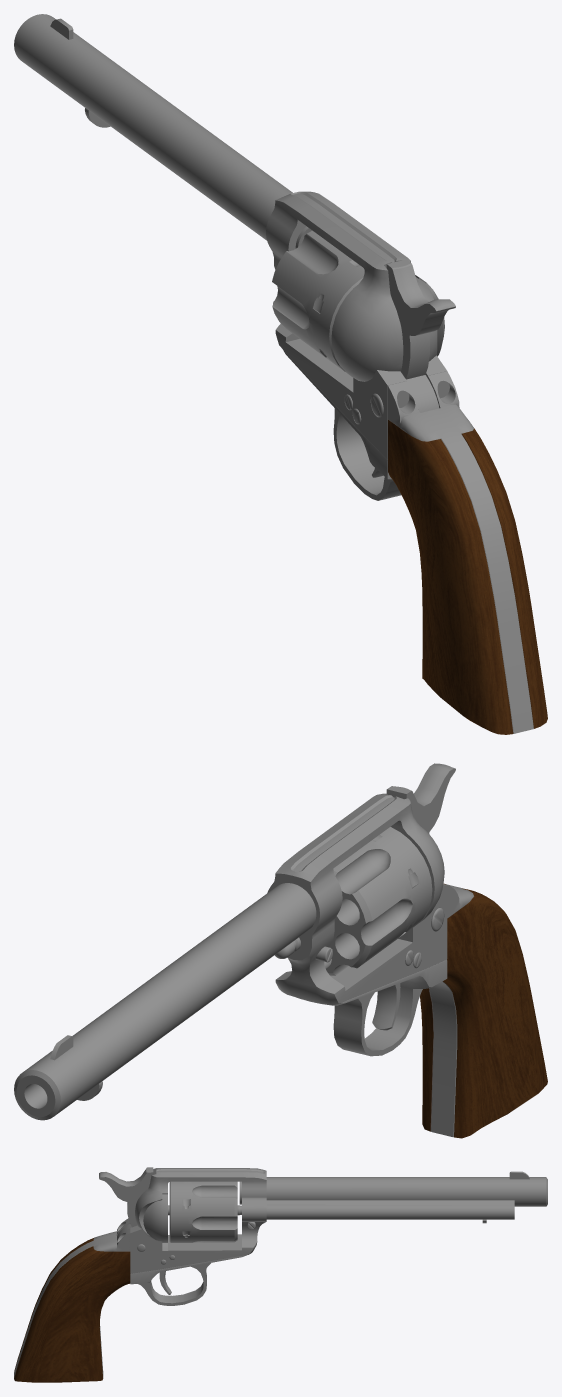
The model's file is peacemaker.fbx.
3 views of the same model, one above another, from view 1: azimuth 30°, elevation 25°; view 2: azimuth 150°, elevation 25°; view 3: azimuth 270°, elevation 25° (orthographic). The views are drawn at different scales.
Visible parts, largest first — view 1: handgrip, barrel, receiver, Cylinder, hammer, trigger; view 2: handgrip, barrel, receiver, Cylinder, trigger, hammer; view 3: handgrip, barrel, receiver, spring, Cylinder, trigger, hammer, loader.
Boxes of the visible parts, x1=… form: handgrip: x1=388, y1=371, x2=547, y2=734; barrel: x1=14, y1=14, x2=311, y2=248; receiver: x1=266, y1=191, x2=446, y2=477; Cylinder: x1=272, y1=230, x2=364, y2=371; hammer: x1=386, y1=259, x2=455, y2=412; trigger: x1=283, y1=350, x2=401, y2=500; handgrip: x1=420, y1=883, x2=547, y2=1138; barrel: x1=14, y1=883, x2=316, y2=1120; receiver: x1=267, y1=793, x2=447, y2=1030; Cylinder: x1=324, y1=827, x2=432, y2=975; trigger: x1=296, y1=959, x2=447, y2=1056; hammer: x1=386, y1=763, x2=455, y2=834; handgrip: x1=14, y1=1218, x2=130, y2=1382; barrel: x1=239, y1=1171, x2=547, y2=1206; receiver: x1=130, y1=1168, x2=266, y2=1294; spring: x1=242, y1=1197, x2=514, y2=1223; Cylinder: x1=169, y1=1181, x2=237, y2=1242; trigger: x1=130, y1=1255, x2=246, y2=1305; hammer: x1=99, y1=1167, x2=153, y2=1239; loader: x1=143, y1=1194, x2=167, y2=1242.
Size of the model in its own units: 58.17 by 203 by 471.
1 material, 1 textured.
